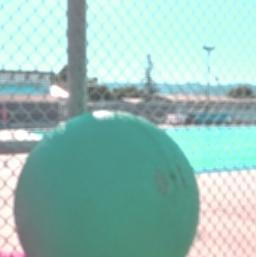algae: (18, 111, 202, 257)
